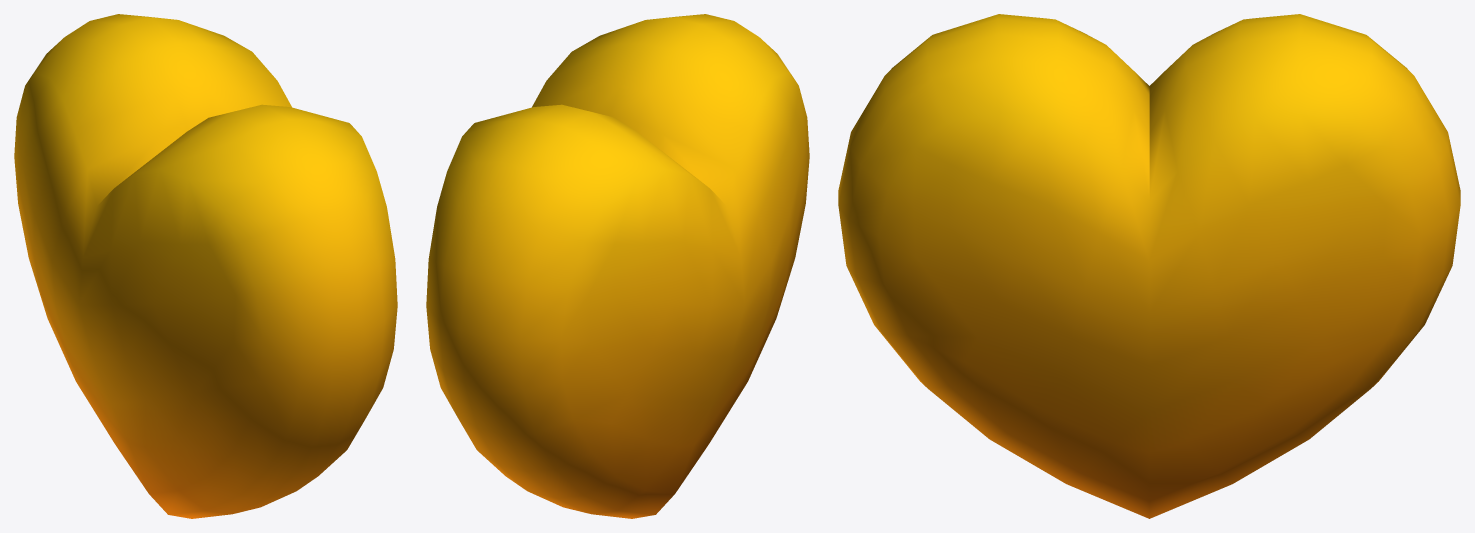
File: EA019_Heart.fbx
3 views of the same model, side by side, from view 1: azimuth 30°, elevation 25°; view 2: azimuth 150°, elevation 25°; view 3: azimuth 270°, elevation 25° (orthographic). The views are drawn at different scales.
Visible parts, largest first — view 1: Heart_V2_00; view 2: Heart_V2_00; view 3: Heart_V2_00.
Part boxes in pixels (x1,y1,x2,y2): Heart_V2_00: (14, 14, 397, 518); Heart_V2_00: (426, 14, 809, 518); Heart_V2_00: (838, 14, 1460, 518).
Size of the model in its own units: 23.68 by 39.52 by 46.14.
